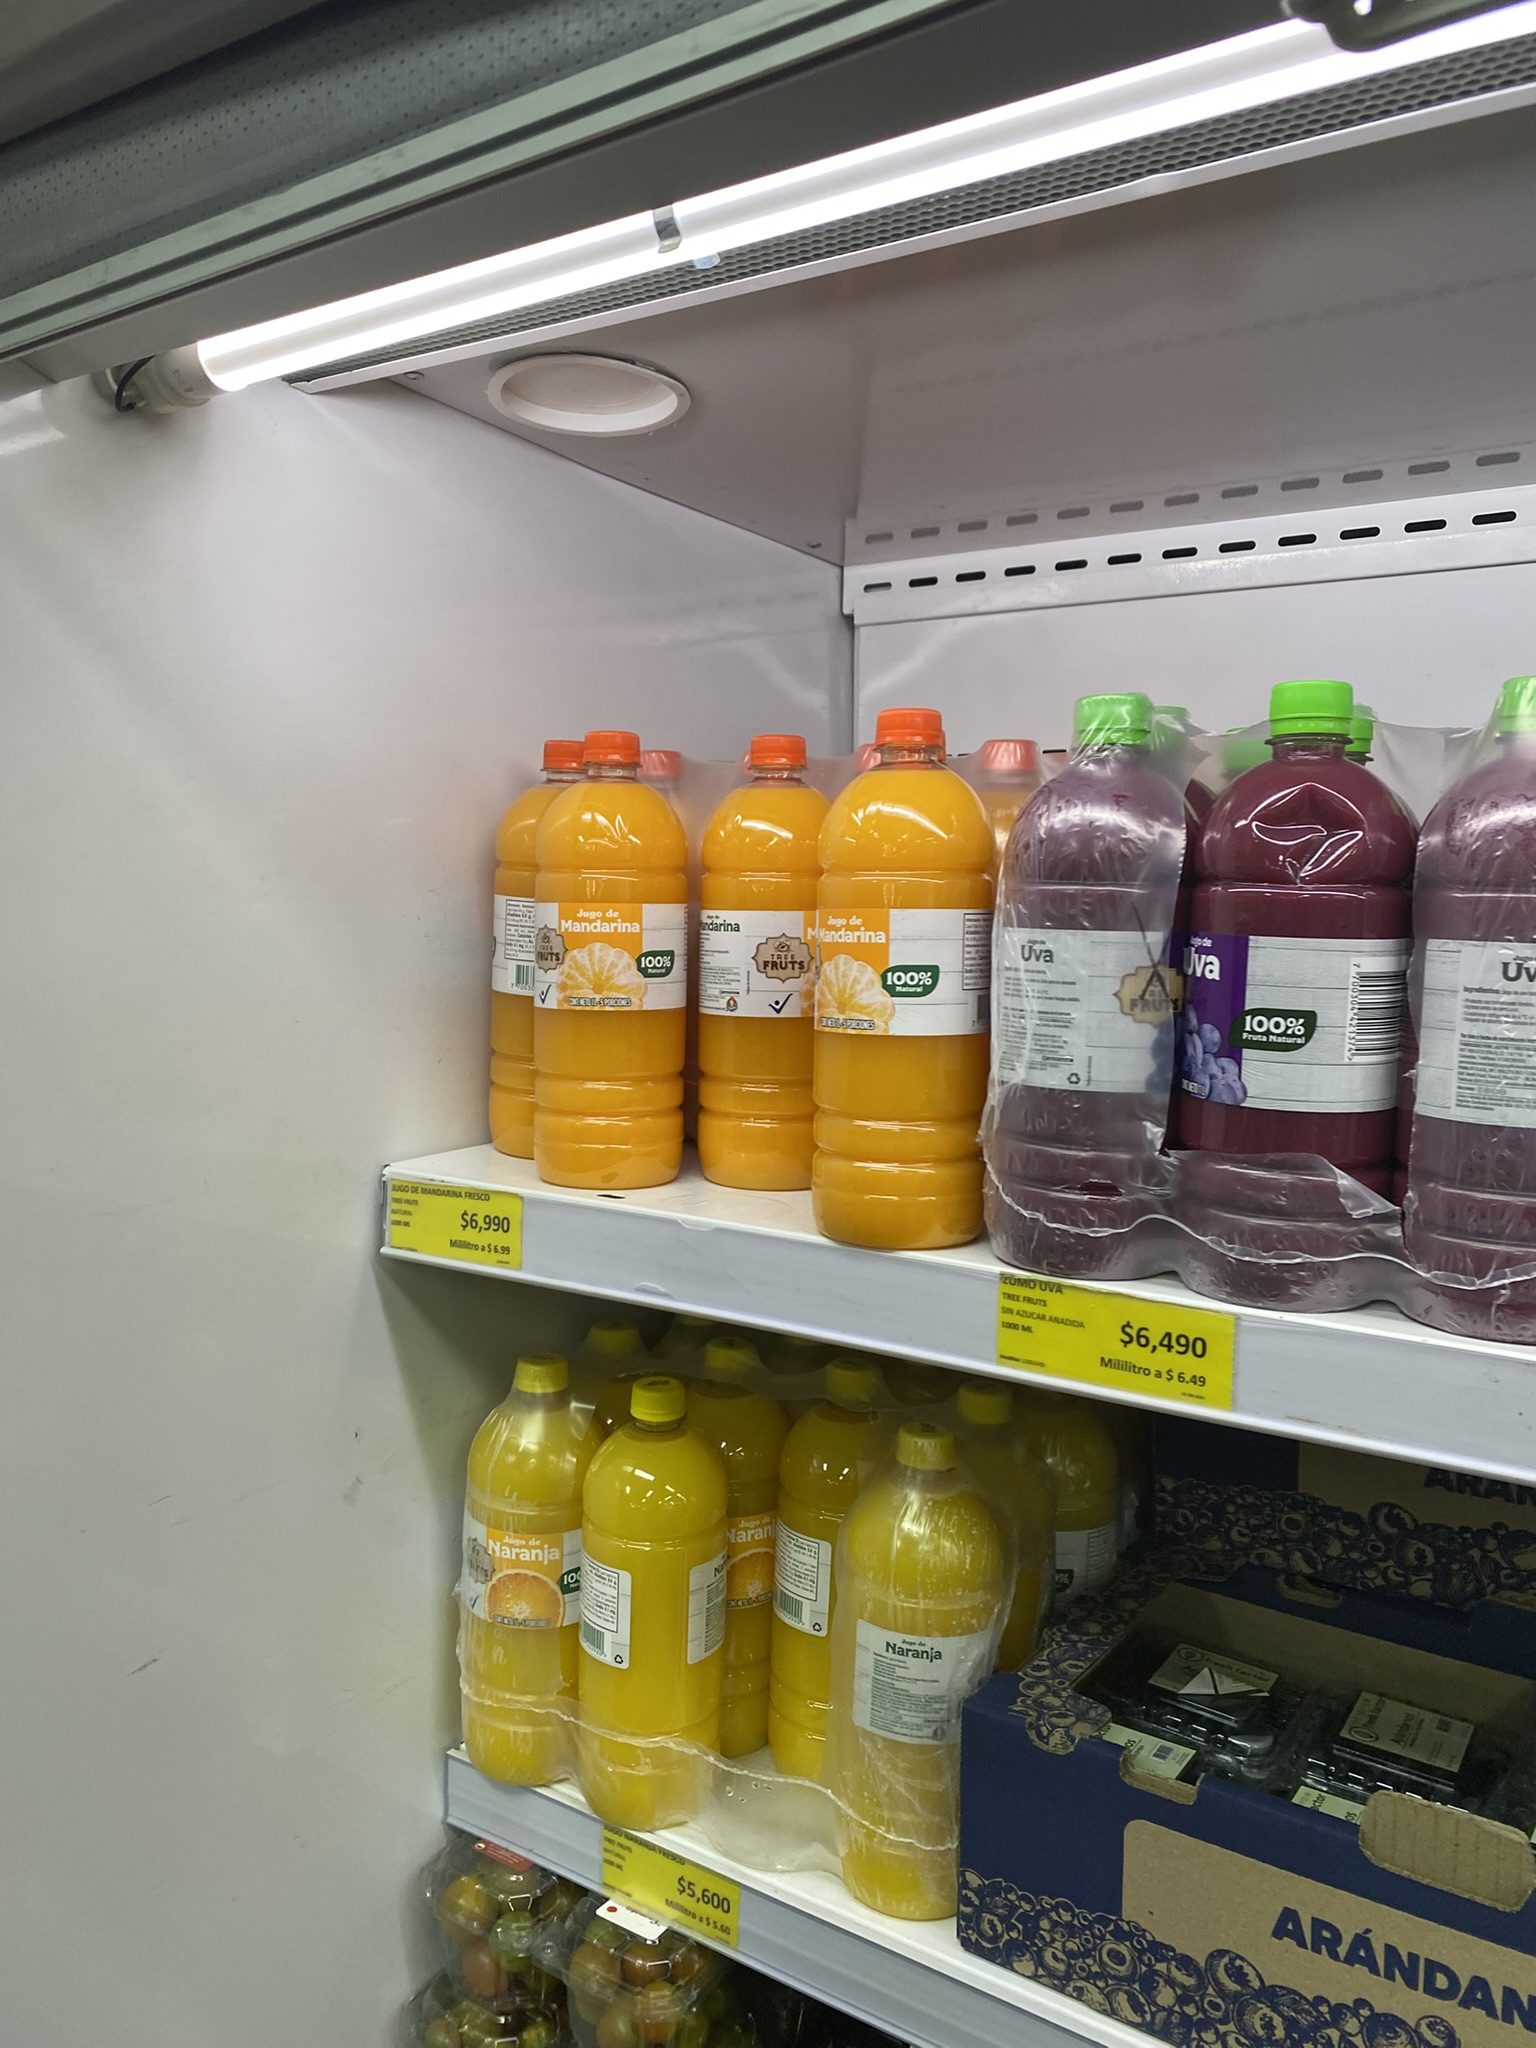Jugo de Mandarina: (811, 718, 1009, 1256), (691, 734, 827, 1213), (548, 744, 676, 1198)
